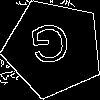G: (28, 23, 73, 73)
